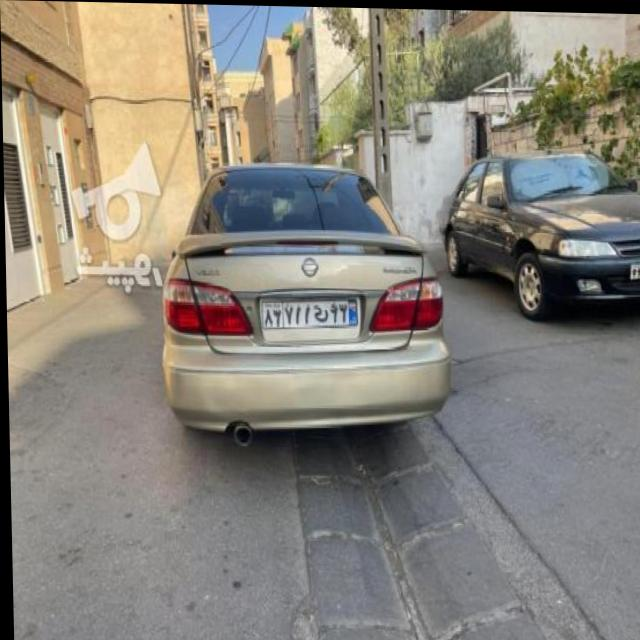licence: (262, 292, 359, 334), (629, 257, 640, 274)
